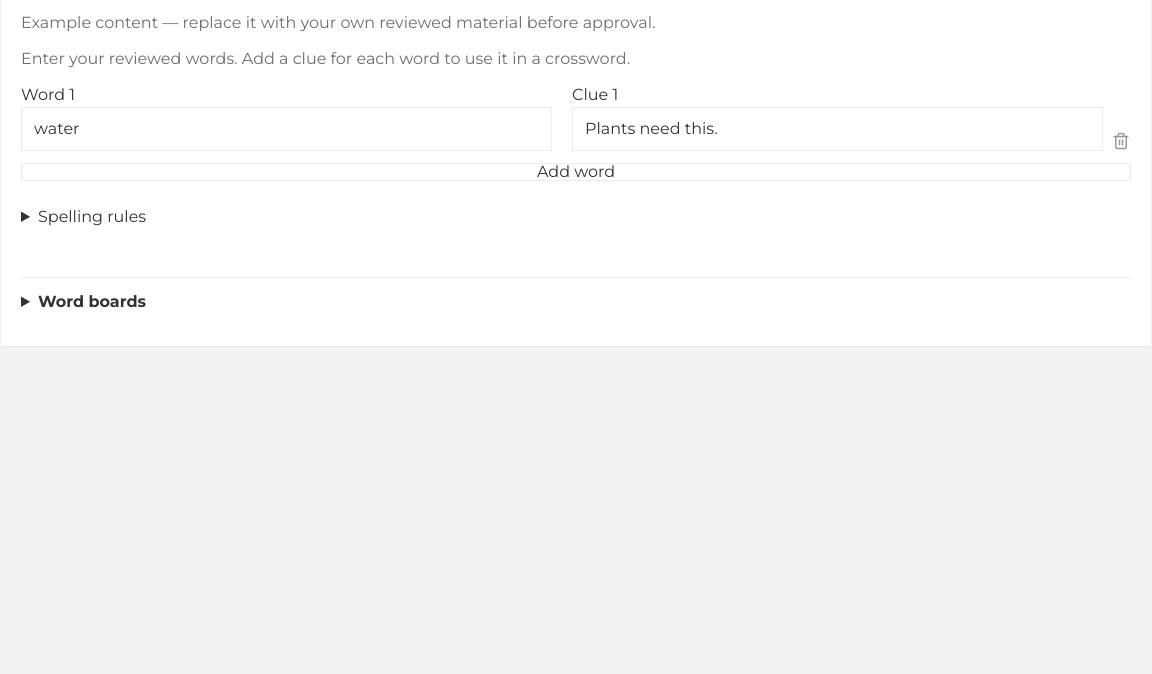
Scenario: shows every unplaced word and separates the saved learner board from the instructor solution
Click the heading "Word boards". click: (92,302)
box: left=38, top=292, right=146, bottom=311
(page scrolled)
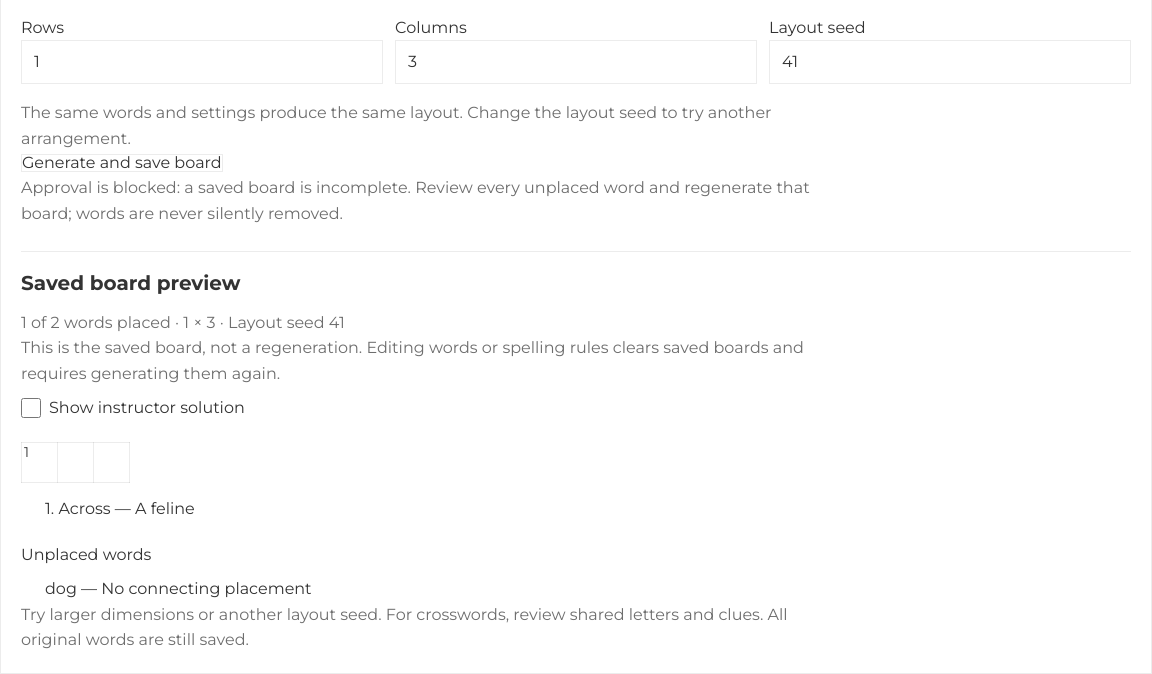
Expected: the message shows "Approval is blocked", left=21, top=178, right=810, bottom=223
Expected: the text "dog" is shown, left=45, top=578, right=77, bottom=598
Expected: the text "No connecting placement" is shown, left=101, top=578, right=312, bottom=598
Click the checkbox labelled "Show instructor solution". click: (31,408)
box: left=21, top=398, right=41, bottom=418
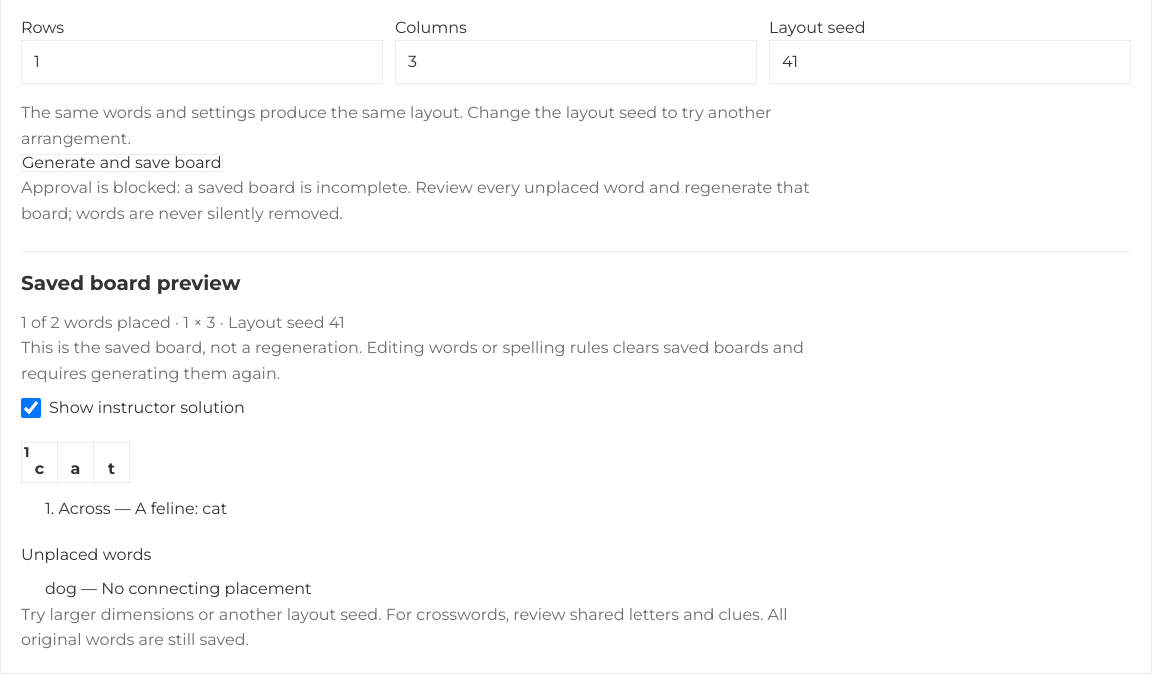
Expected: the text "1 of 2 words placed · 1 × 3 · Layout seed 41" is shown, left=21, top=313, right=345, bottom=332
Expected: the cells read "1c", "a", "t", in this order, left=22, top=443, right=58, bottom=483; left=58, top=443, right=94, bottom=483; left=94, top=443, right=130, bottom=483
